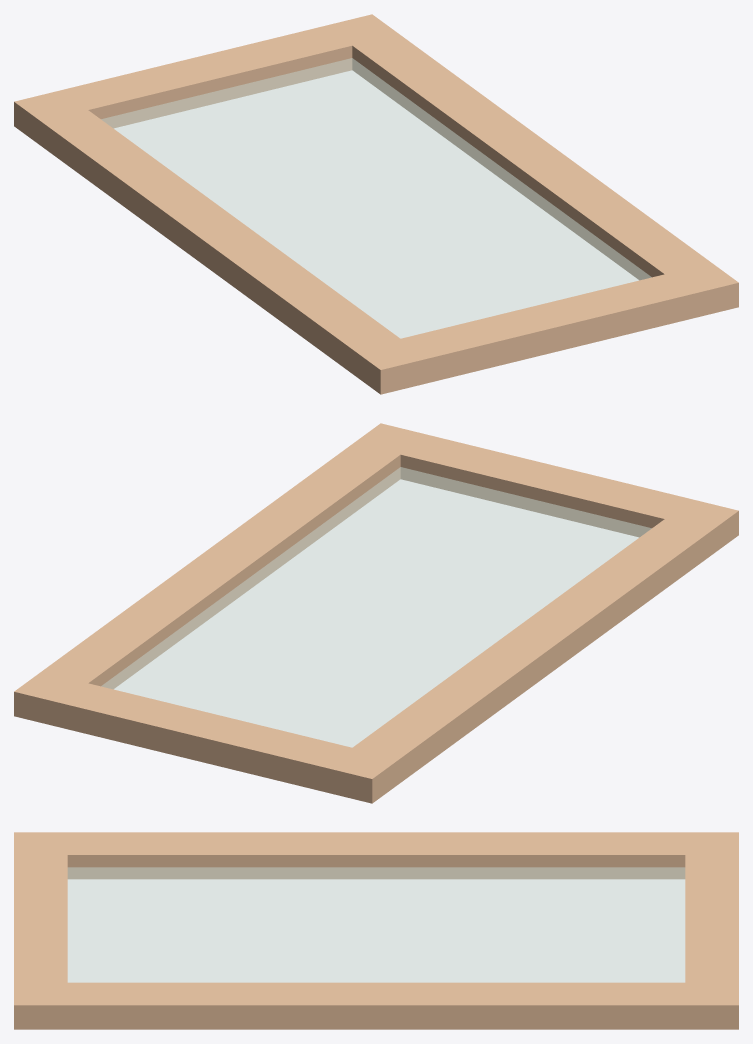
The model's file is window.glb.
3 renders of one model, top to bottom at view 1: azimuth 30°, elevation 25°; view 2: azimuth 150°, elevation 25°; view 3: azimuth 270°, elevation 25°, orthographic.
Visible parts, largest first — view 1: window; view 2: window; view 3: window.
Boxes of the visible parts, x1,y1,x2,y2 form: window: [14, 14, 738, 394]; window: [14, 423, 738, 803]; window: [14, 832, 738, 1029].
Bounding box in the file's own units: 0.3746 × 0.0246 × 0.6641.
